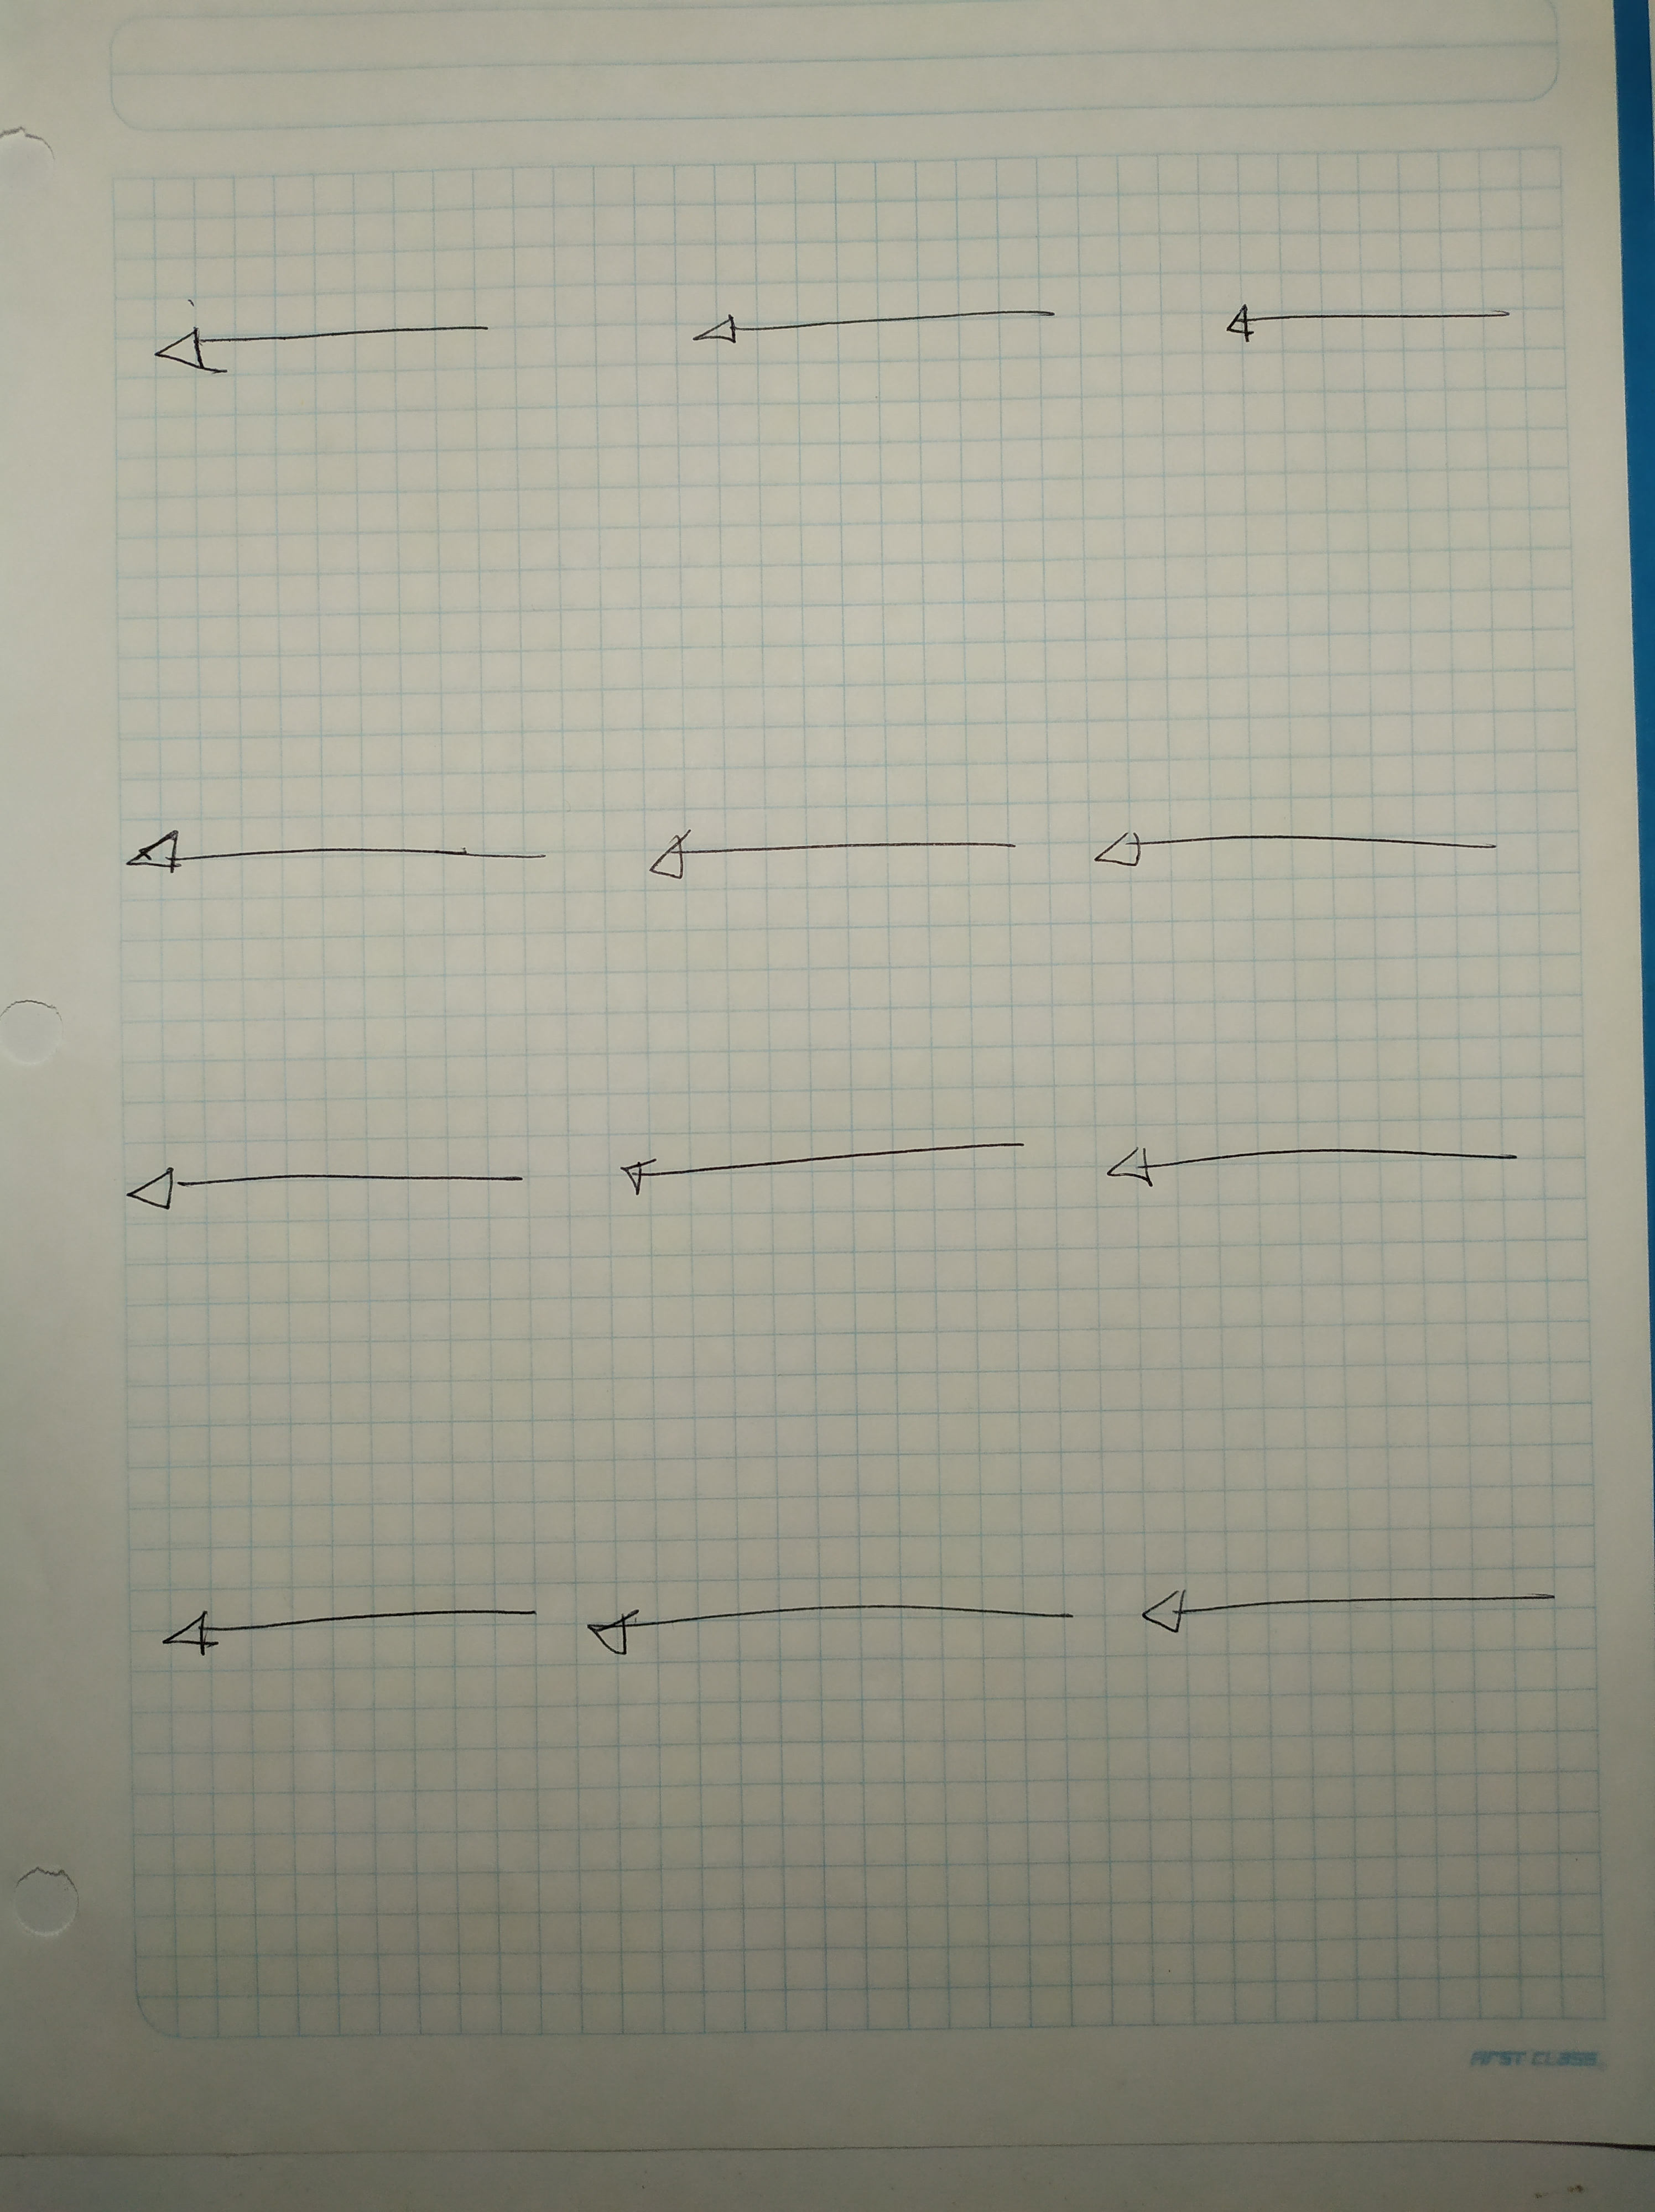arrow_line_left: (108, 794, 595, 907), (85, 1129, 579, 1239), (568, 1578, 1106, 1677), (1078, 1117, 1566, 1223), (1062, 799, 1519, 911), (122, 1581, 558, 1687), (1120, 1573, 1580, 1670), (596, 1126, 1064, 1222), (610, 806, 1048, 897), (1184, 275, 1544, 381), (111, 295, 523, 387), (643, 287, 1088, 361)
